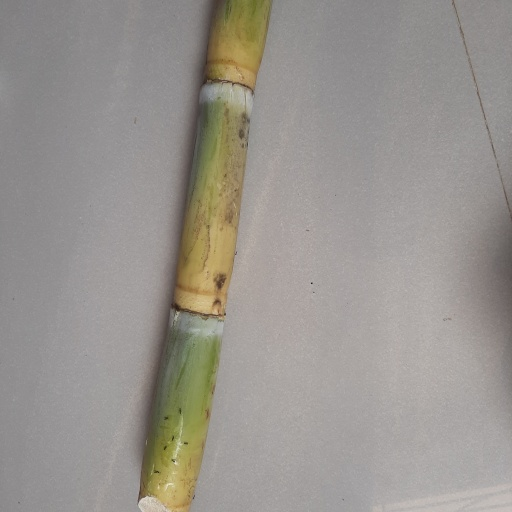Bud: (209, 298, 223, 316)
